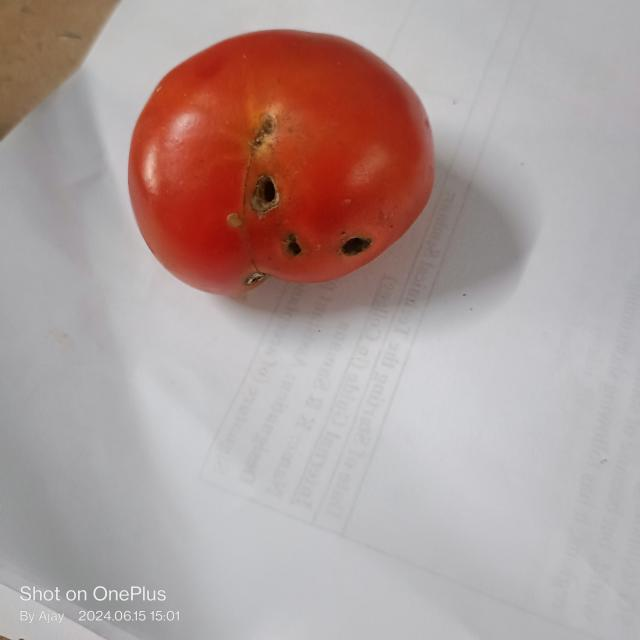fruitworm_bore: (239, 109, 281, 208), (334, 226, 374, 273), (276, 226, 309, 265)
